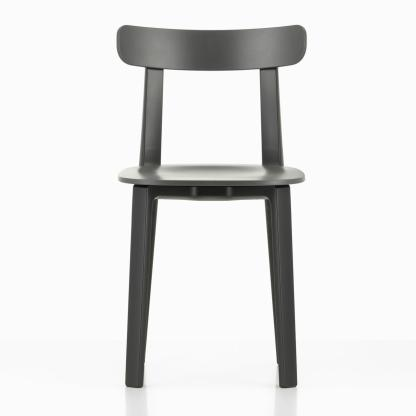chair: (112, 24, 306, 391)
